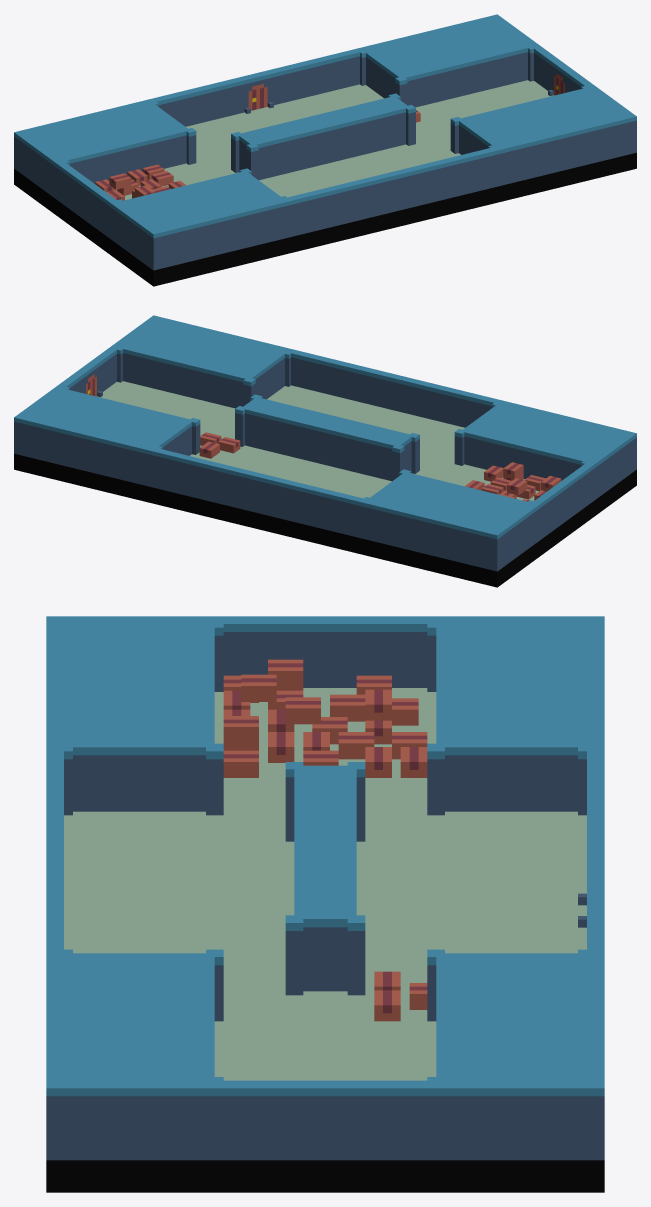
The model's file is hab1.5.obj.
The picture shows the model from 3 angles, top to bottom: view 1: azimuth 30°, elevation 25°; view 2: azimuth 150°, elevation 25°; view 3: azimuth 270°, elevation 25°; orthographic projection. The views are drawn at different scales.
Bounding box in the file's own units: 126 × 14 × 63.
Materials: 1 (1 with a texture image).
